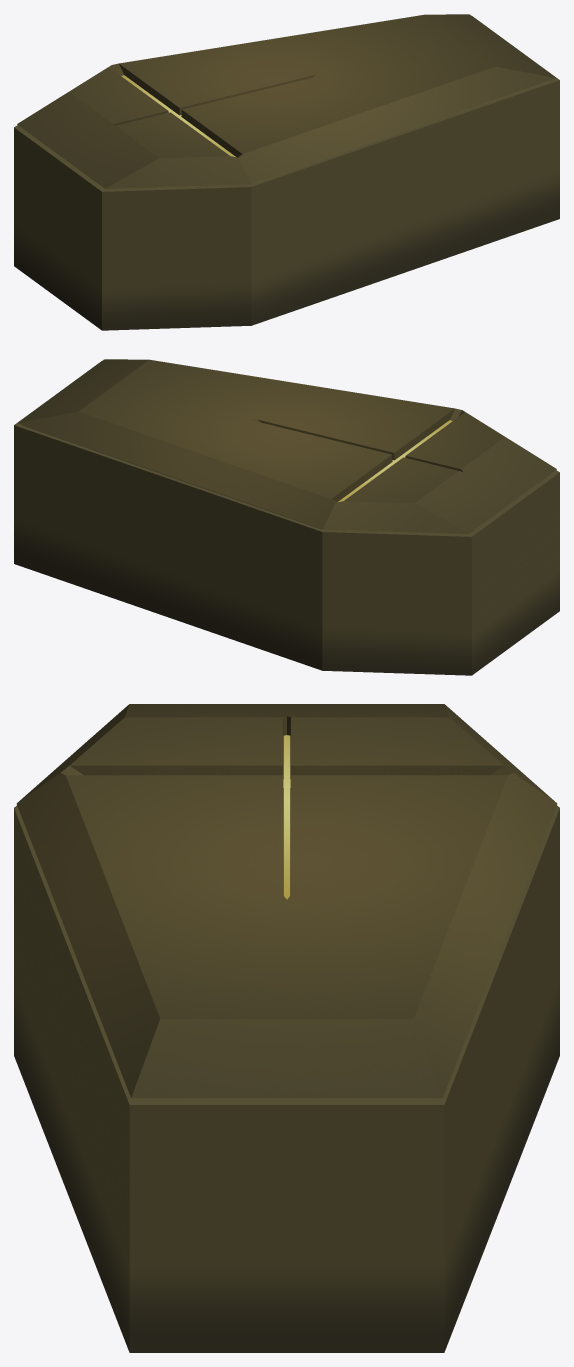
The model's file is cercueilpng.fbx.
3 views of the same model, one above another, from view 1: azimuth 30°, elevation 25°; view 2: azimuth 150°, elevation 25°; view 3: azimuth 270°, elevation 25° (orthographic). The views are drawn at different scales.
Visible parts, largest first — view 1: Cube; view 2: Cube; view 3: Cube.
Boxes of the visible parts, left/top/right/bottom form: Cube: left=14, top=14, right=559, bottom=330; Cube: left=14, top=359, right=559, bottom=675; Cube: left=14, top=704, right=559, bottom=1352.
Bounding box in the file's own units: 18000 × 6000 × 10407.
